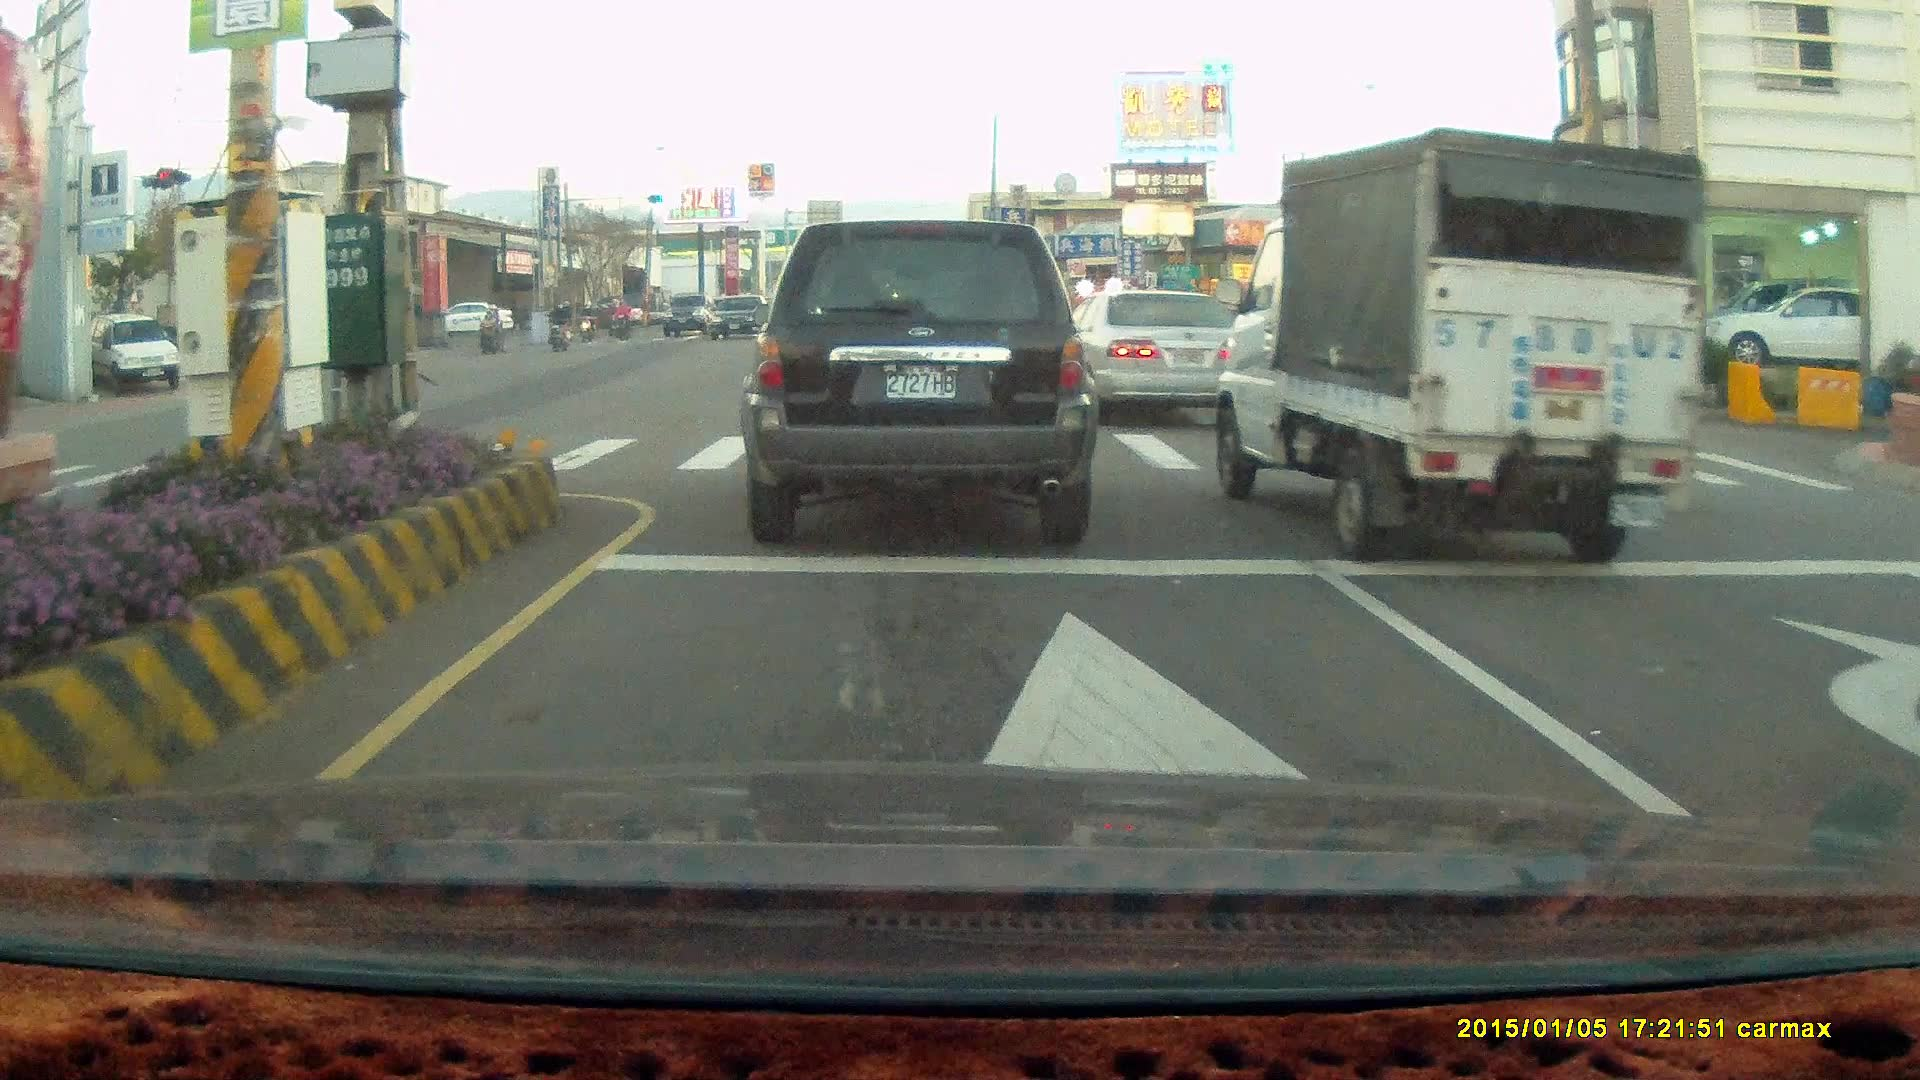rider: (474, 300, 509, 352), (544, 299, 573, 353), (611, 295, 635, 340), (573, 295, 596, 338)
vehicle: (1214, 123, 1706, 564), (737, 217, 1100, 546), (1050, 284, 1261, 423), (1067, 287, 1258, 433), (1701, 283, 1912, 378), (1714, 286, 1871, 373), (74, 314, 183, 390), (445, 301, 517, 340)
